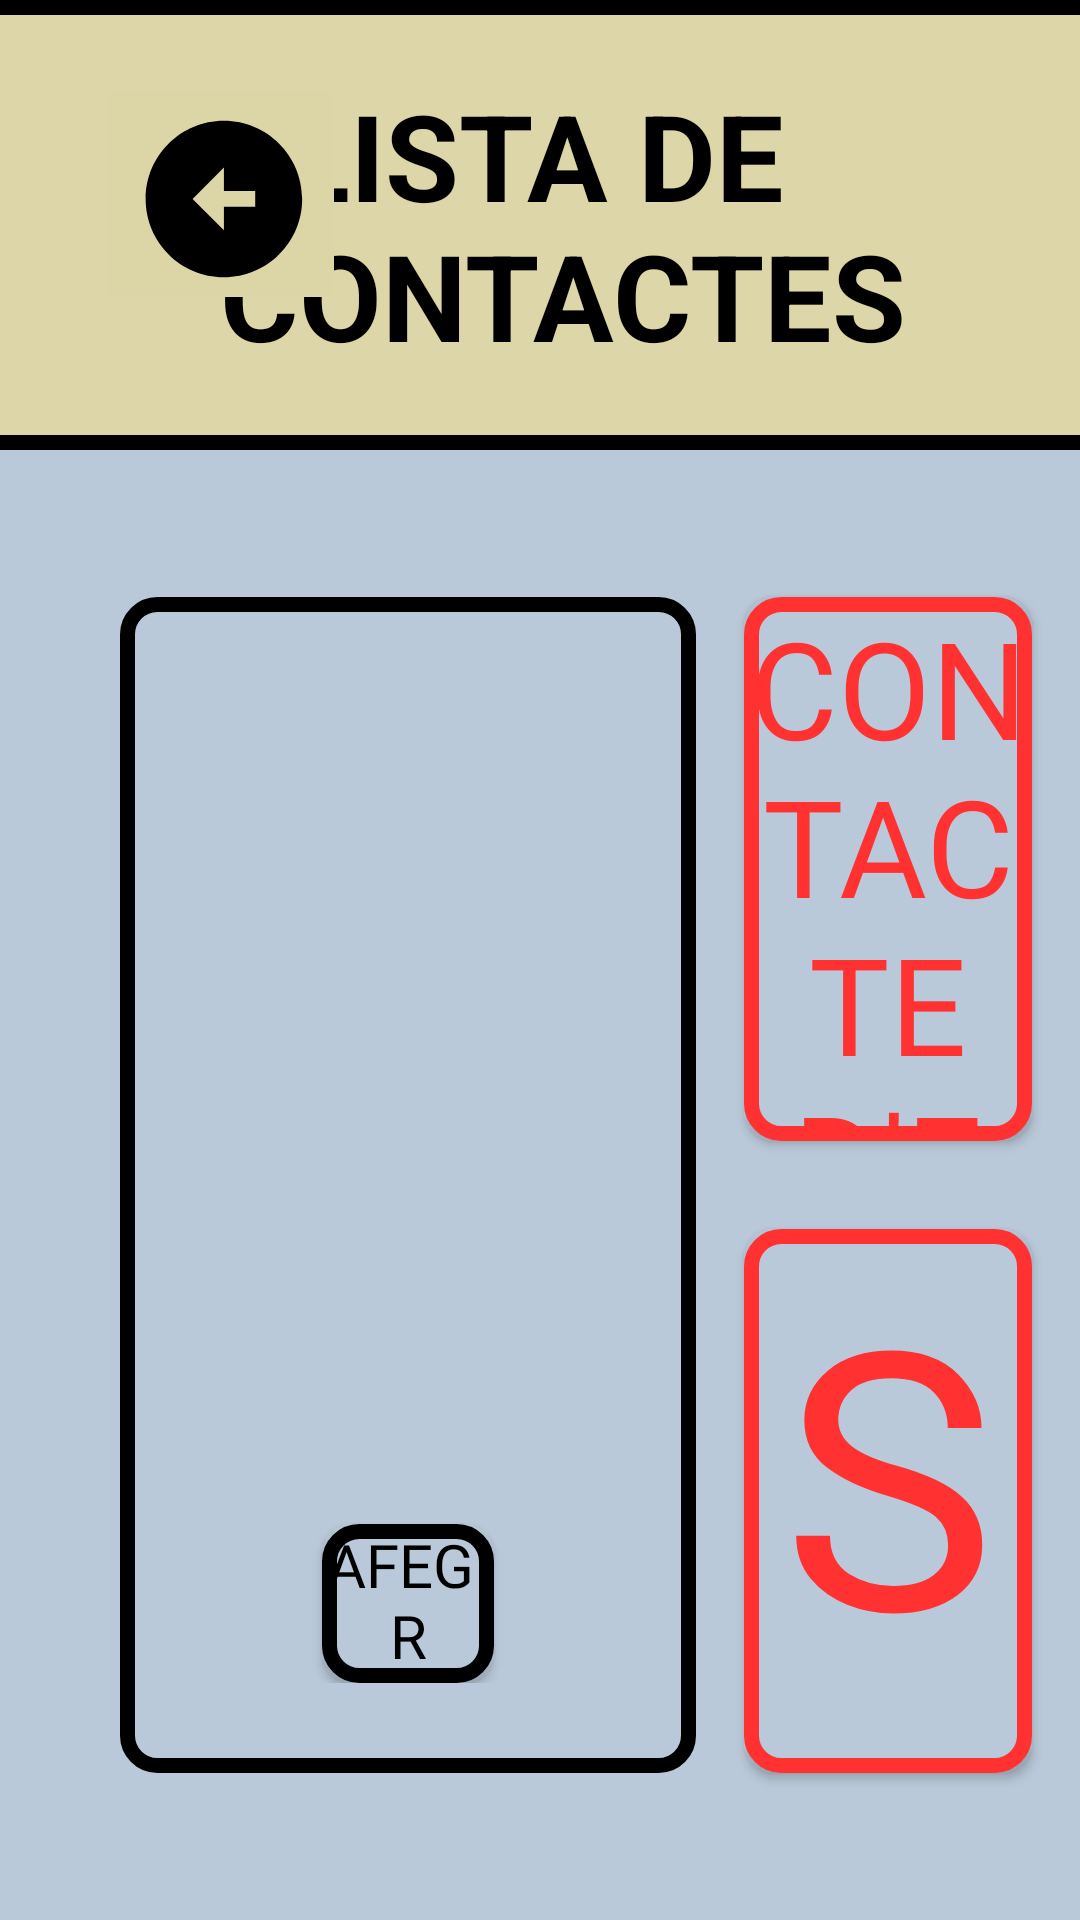

Where icons sit on this 1080px×1920px app screen, as (x1, y1, x2, y2):
arrow circle left: (145, 120, 346, 278)
